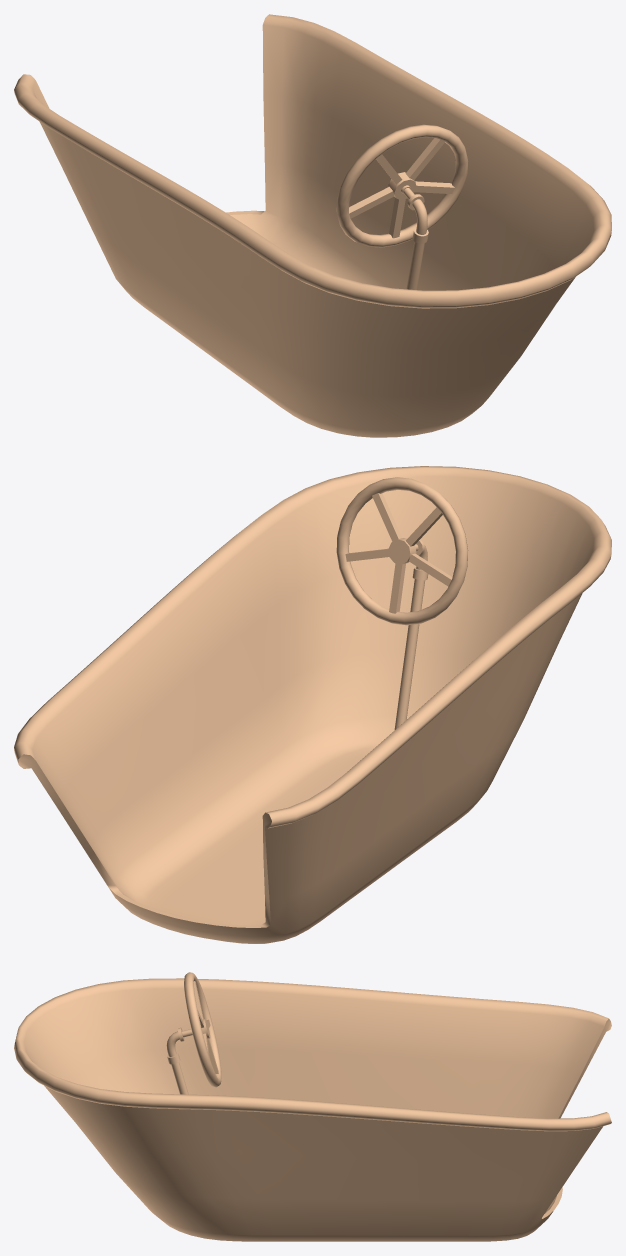
The model's file is SM_Bathtub_01.glb.
The picture shows the model from 3 angles, top to bottom: view 1: azimuth 30°, elevation 25°; view 2: azimuth 150°, elevation 25°; view 3: azimuth 270°, elevation 25°; orthographic projection. The views are drawn at different scales.
Visible parts, largest first — view 1: SM_bathtub_01; view 2: SM_bathtub_01; view 3: SM_bathtub_01.
Part boxes in pixels (x1,y1,x2,y2): SM_bathtub_01: (14,14,611,437); SM_bathtub_01: (14,466,611,943); SM_bathtub_01: (14,972,611,1241).
Size of the model in its own units: 2.34 by 2.08 by 4.81.
